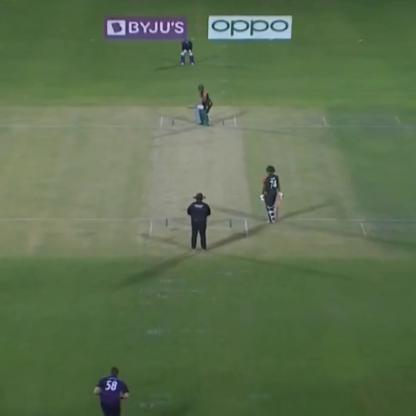pitch: (146, 114, 246, 244)
